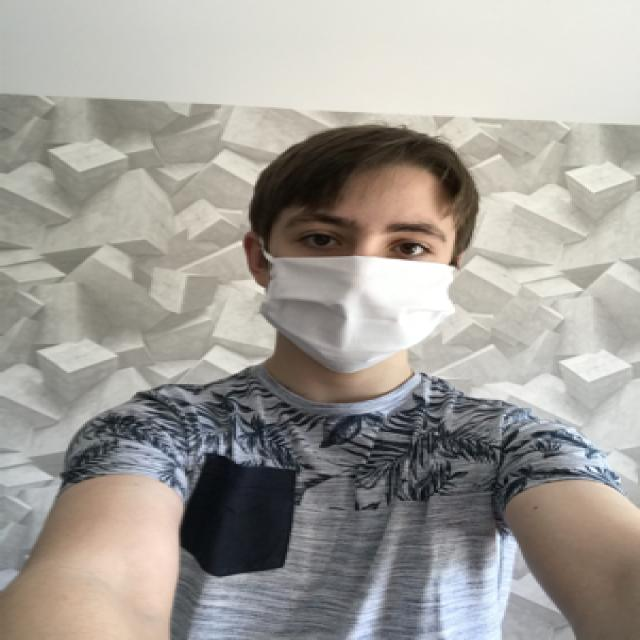mask: (262, 202, 459, 372)
